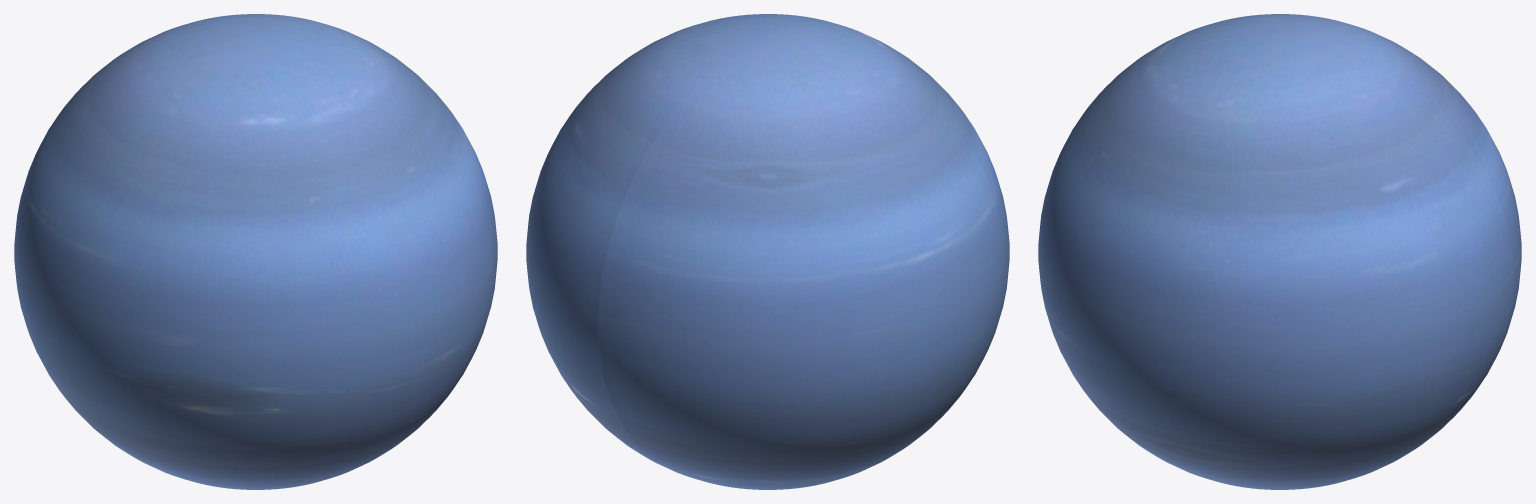
File: Neptune.gltf
3 views of the same model, side by side, from view 1: azimuth 30°, elevation 25°; view 2: azimuth 150°, elevation 25°; view 3: azimuth 270°, elevation 25° (orthographic).
Parts seen in each view (by area): view 1: Neptune; view 2: Neptune; view 3: Neptune.
Boxes of the visible parts, bbox=[...] form: Neptune: bbox=[14, 14, 497, 489]; Neptune: bbox=[526, 14, 1009, 489]; Neptune: bbox=[1038, 14, 1521, 489].
Bounding box in the file's own units: 3.86 × 3.8 × 3.86.
1 material, 1 textured.
